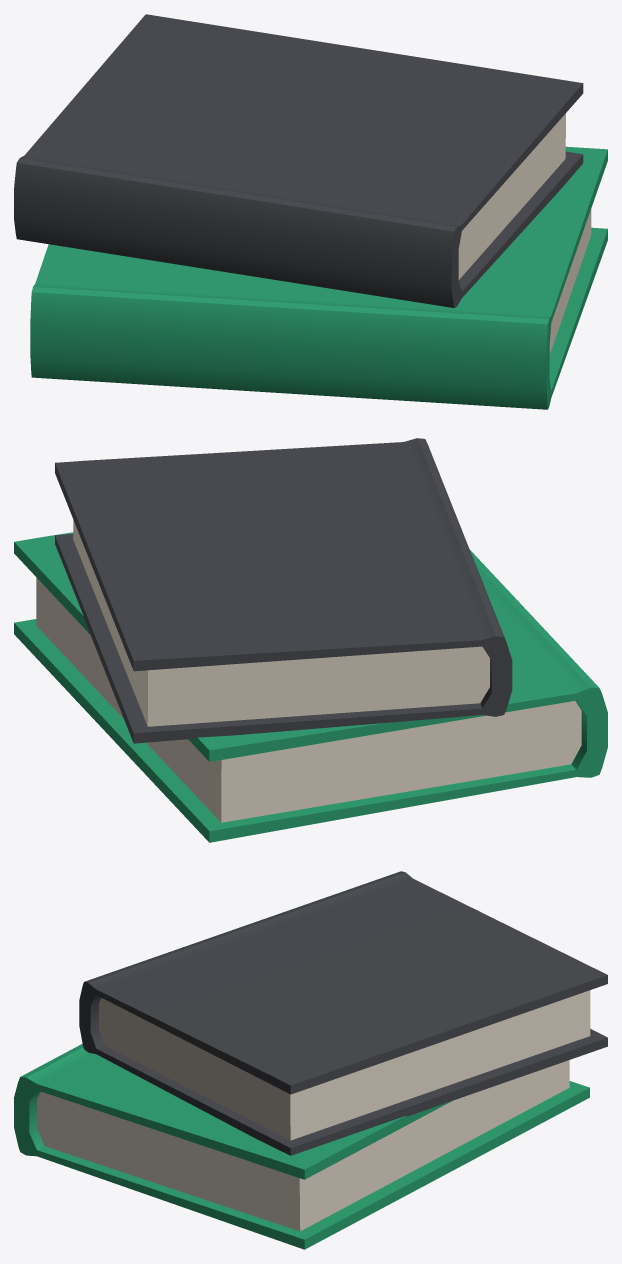
The model's file is BookPile11.fbx.
3 renders of one model, top to bottom at view 1: azimuth 30°, elevation 25°; view 2: azimuth 150°, elevation 25°; view 3: azimuth 270°, elevation 25°, orthographic. The views are drawn at different scales.
Visible parts, largest first — view 1: polySurface92; view 2: polySurface92; view 3: polySurface92.
Boxes of the visible parts, <box> form: polySurface92: <box>14,14,607,409</box>; polySurface92: <box>14,438,607,842</box>; polySurface92: <box>14,871,607,1249</box>.
Bounding box in the file's own units: 0.7195 × 0.202 × 0.7239.
